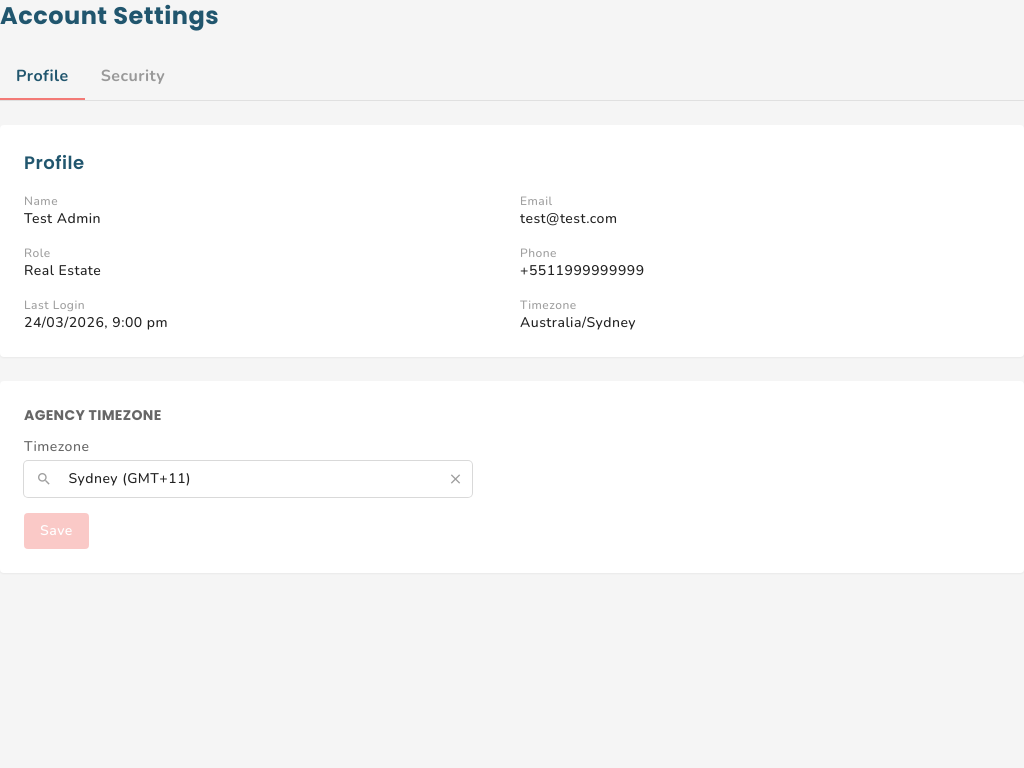
Test: AccountSettingsPage — CL_ADMIN agency timezone flow › opens the confirm dialog on Save without issuing a request
Click the dropdown named "Agency timezone".
click(252, 479)  # box [56,461,448,497]
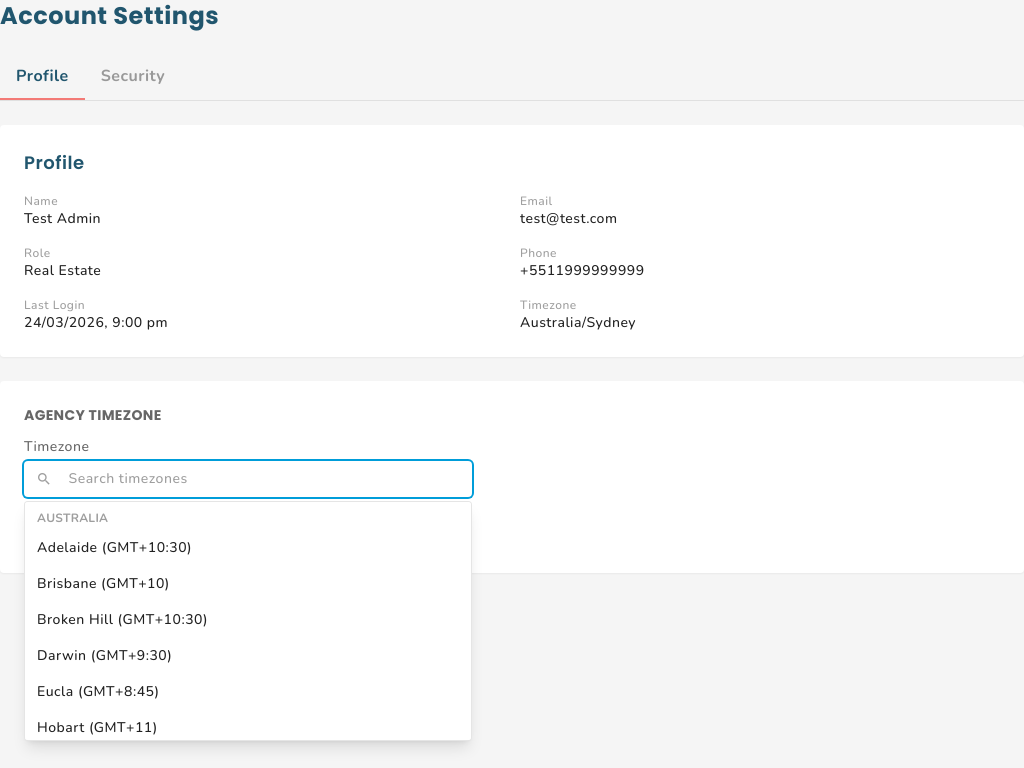
Type keys "perth"
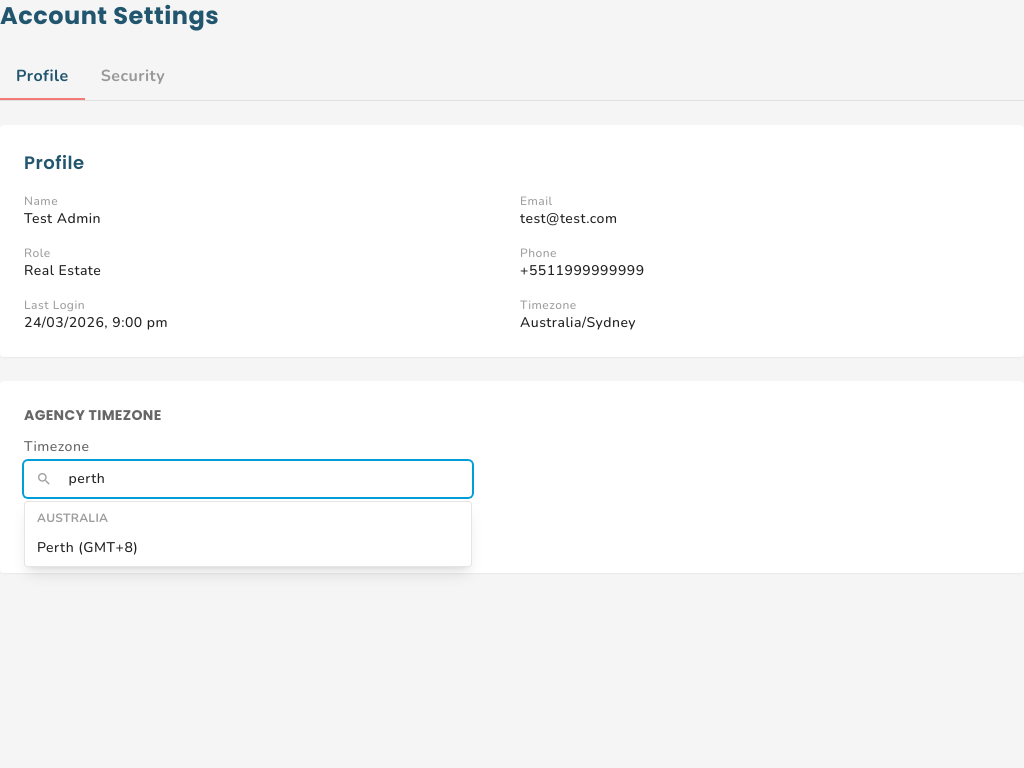
Click the option "Perth (GMT+8)".
click(88, 548)  # box [37,538,138,557]
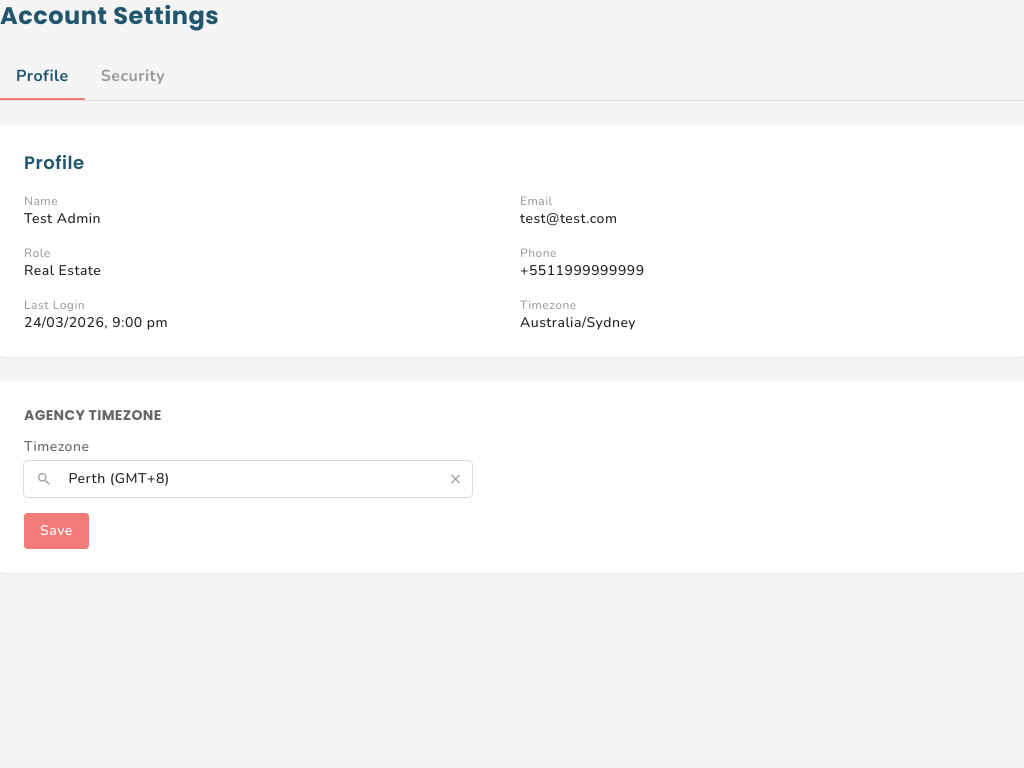
Click the button "Save".
click(56, 531)  # box [24,513,89,549]
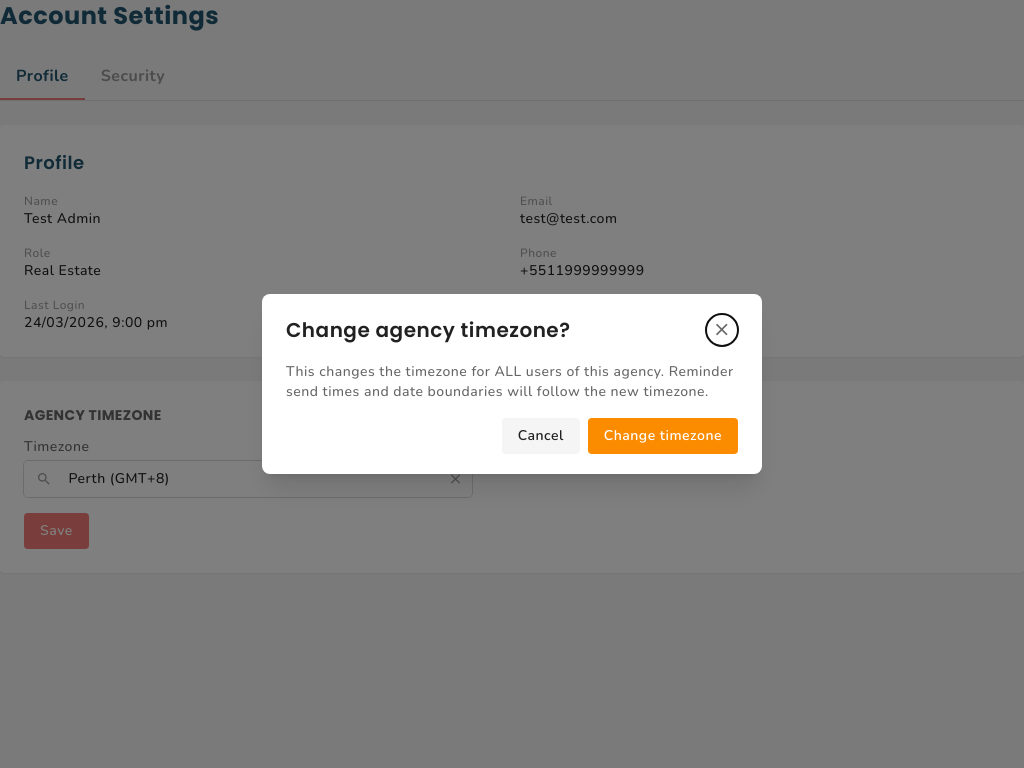
Result: the heading "Change agency timezone?" is shown at [286,316,570,344]
Result: the text "ALL users of this agency" is shown at [286,362,734,401]
